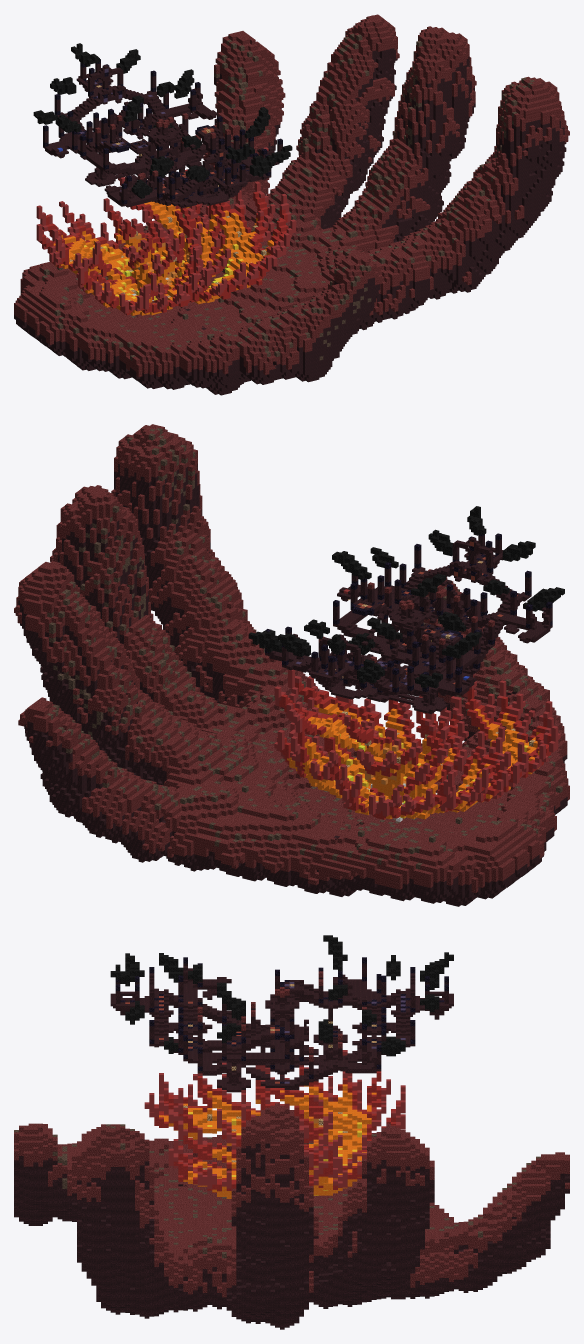
Rendered from minecraft.obj.
3 renders of one model, top to bottom at view 1: azimuth 30°, elevation 25°; view 2: azimuth 150°, elevation 25°; view 3: azimuth 270°, elevation 25°, orthographic. The views are drawn at different scales.
Bounding box in the file's own units: 1180 × 640 × 1150.
